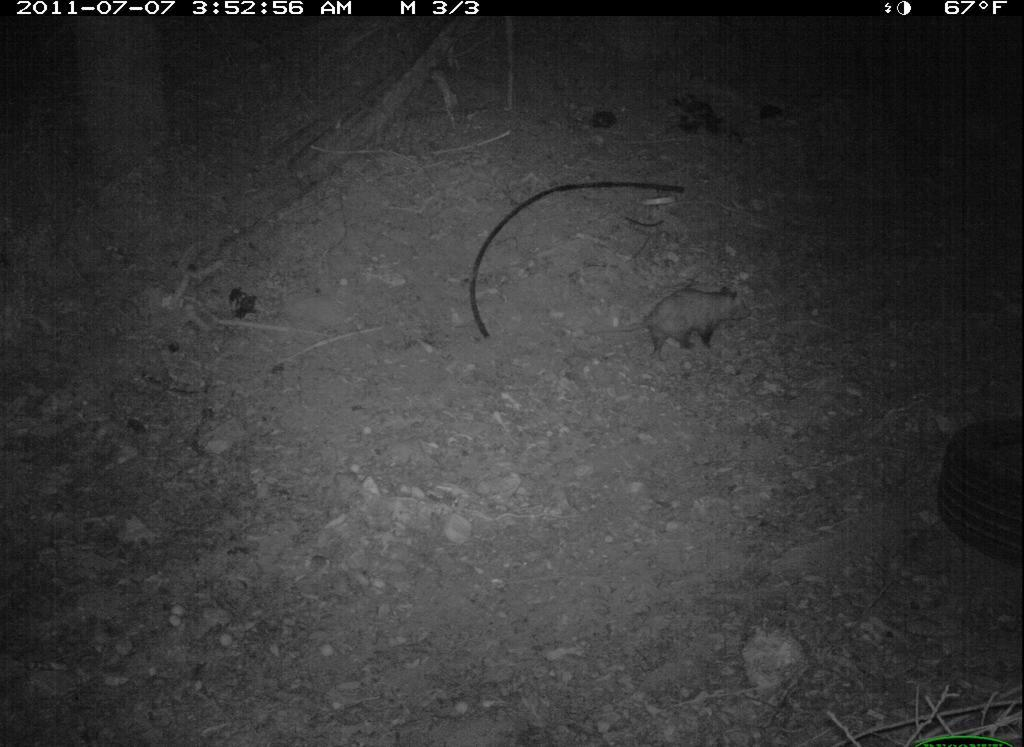opossum: (591, 267, 763, 374)
